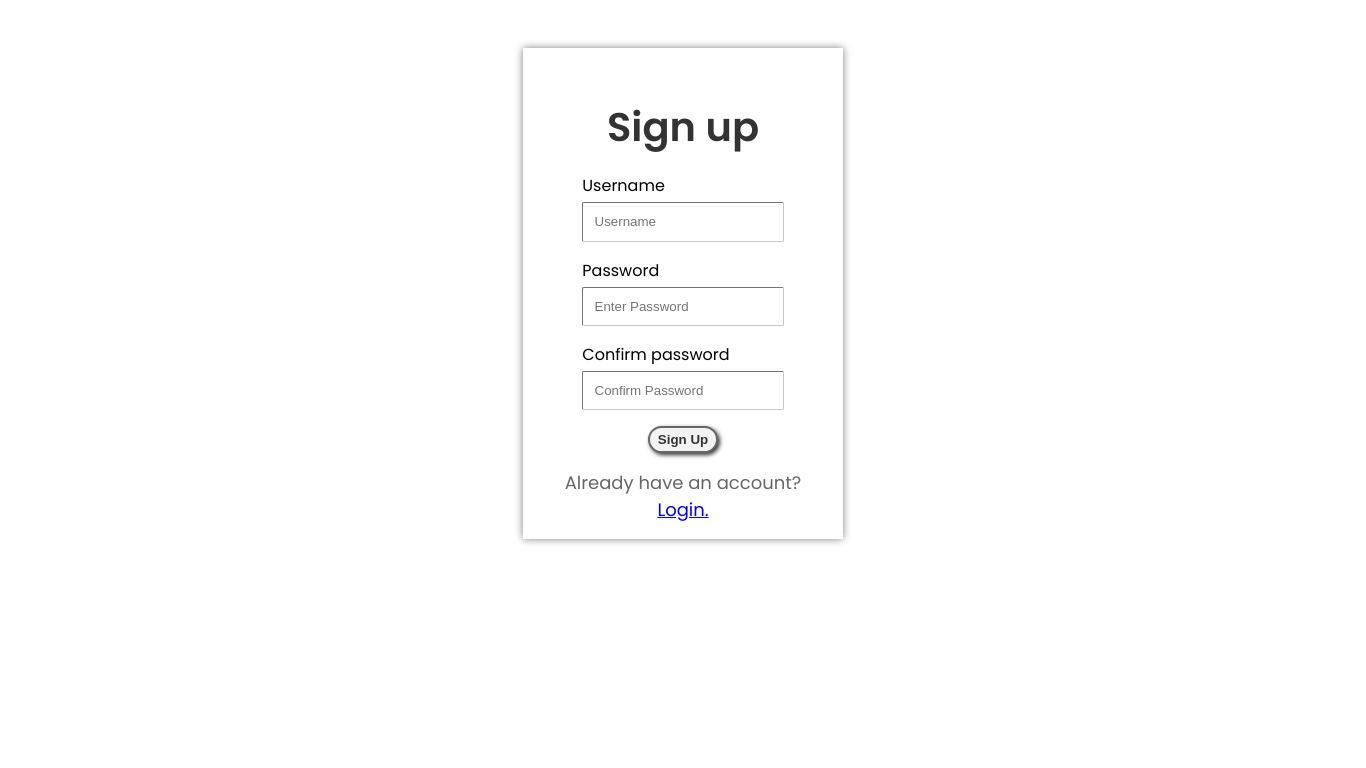
Scenario: <SignUpForm /> › shows an error when username already exists
The image size is (1366, 768).
Type "existinguser" into the field labelled "Username". click: {"x": 683, "y": 222}
box: [582,202,784,242]
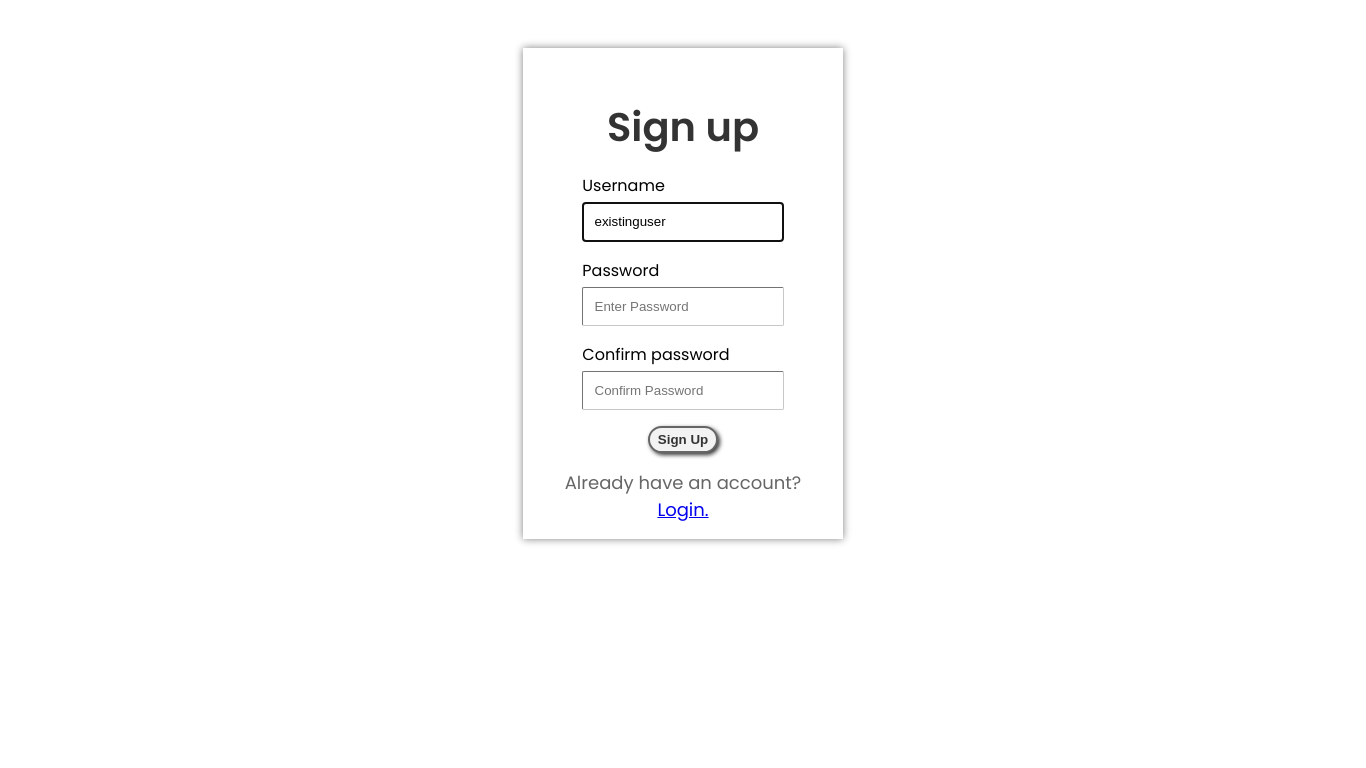
Type "password123" into the password field with placeholder "Enter Password". click: {"x": 683, "y": 306}
box: [582,287,784,326]
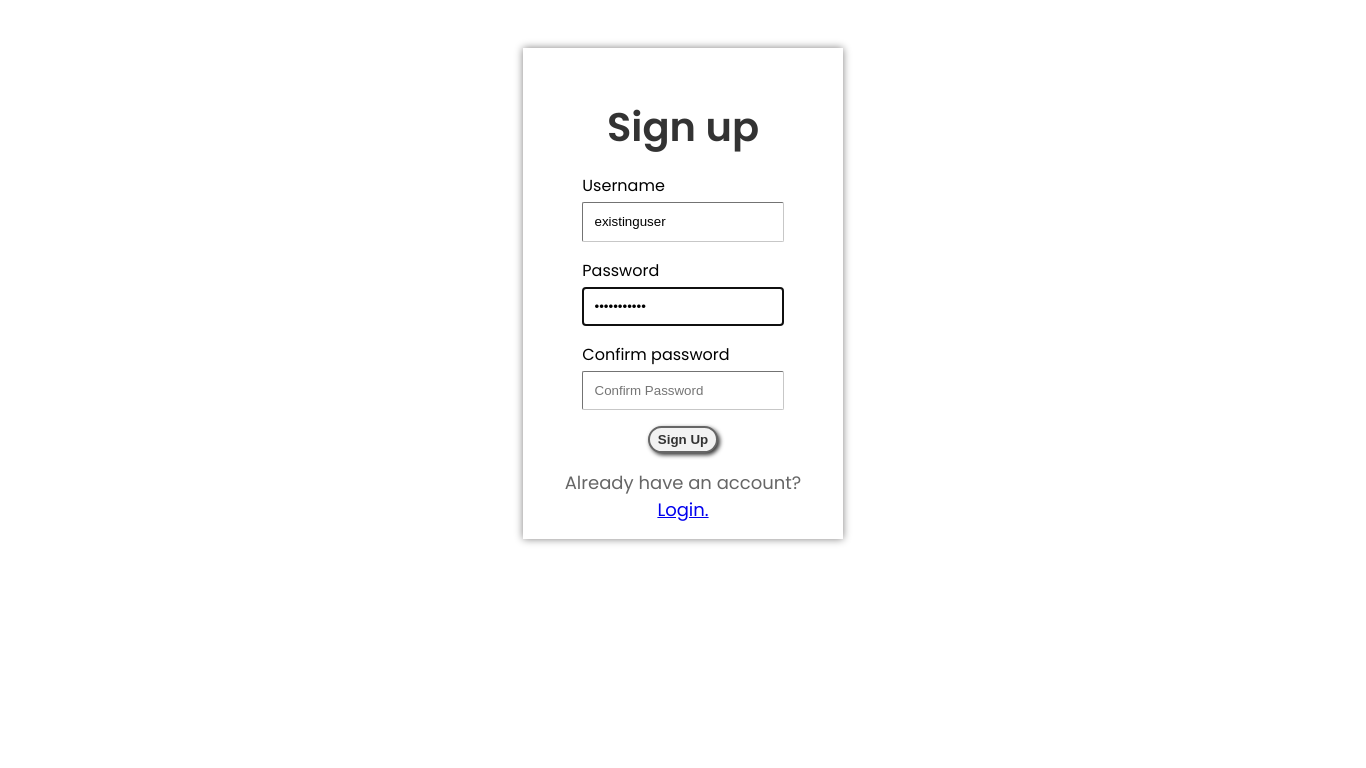
Type "password123" into the password field with placeholder "Confirm password". click: {"x": 683, "y": 391}
box: [582,371,784,410]
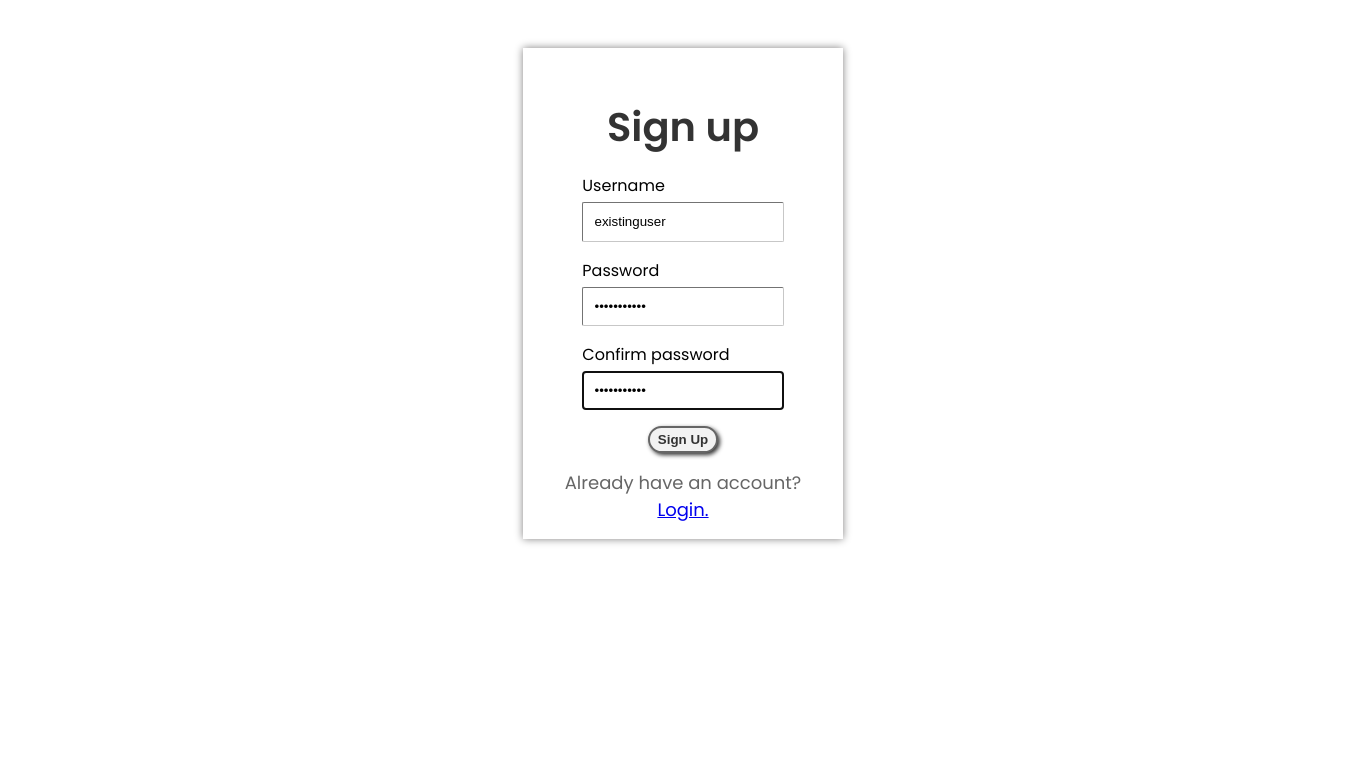
Click the button "Sign Up". click: {"x": 683, "y": 440}
box: [648,426,718,453]
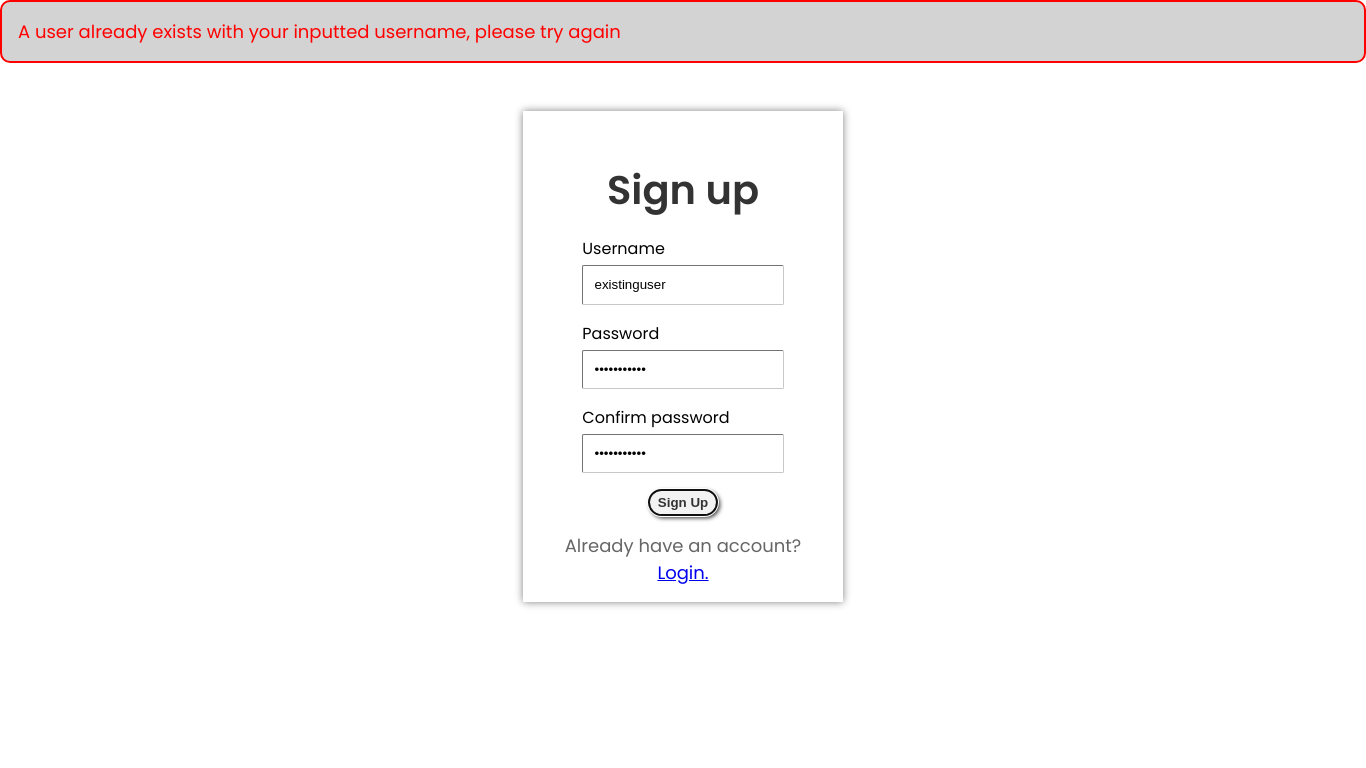
Now the message shows "user already exists", box [18,19,621,44]
